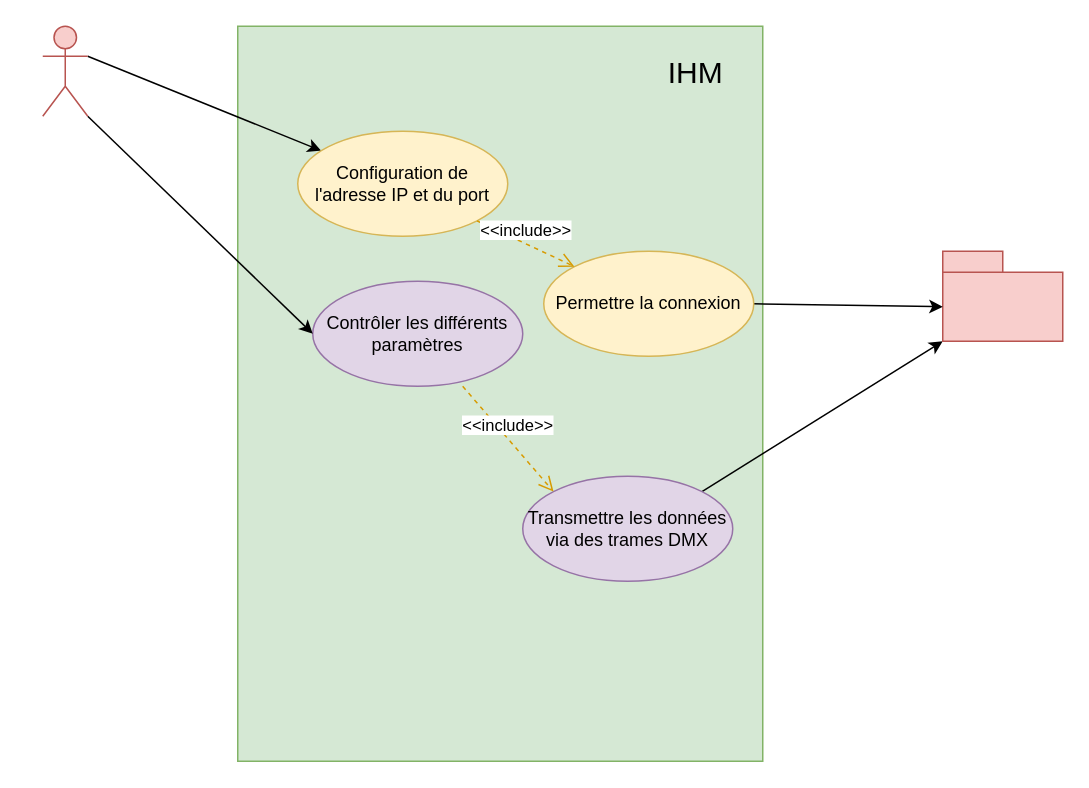
The diagram is 1089 pixels wide and 788 high, and some of its shapes have lost their labels. The centre of each missing label's shape, as x and y in pixels:
Spotex: [1002,295]
Utilisateur: [64,70]
